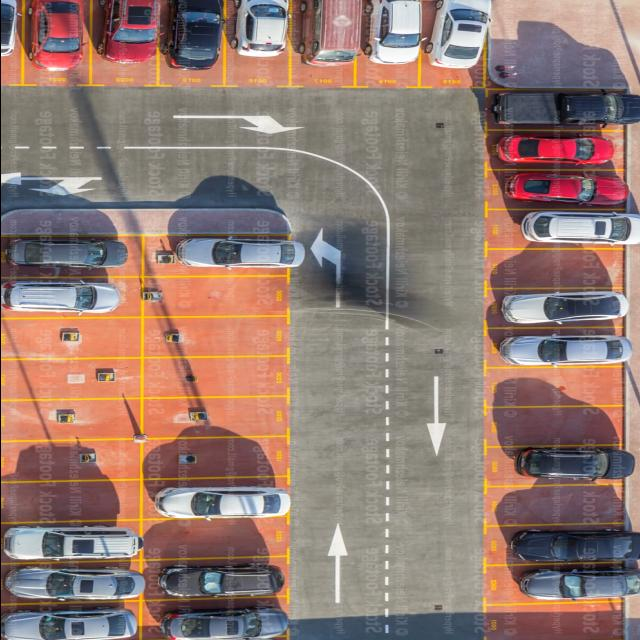cars: (2, 525, 144, 561), (2, 566, 144, 602), (496, 92, 640, 126), (424, 0, 492, 69), (152, 486, 290, 520), (157, 563, 285, 599), (0, 607, 137, 640), (158, 606, 290, 640), (517, 566, 640, 602), (499, 291, 628, 325), (0, 281, 121, 317), (509, 530, 640, 563), (26, 0, 86, 72), (502, 172, 629, 206), (498, 335, 632, 367), (298, 0, 362, 67), (96, 0, 161, 65), (515, 447, 635, 482), (520, 211, 640, 246), (165, 0, 225, 70), (174, 238, 304, 270), (4, 238, 128, 270), (362, 0, 422, 65), (495, 134, 614, 166), (228, 0, 290, 58), (0, 0, 18, 58)
